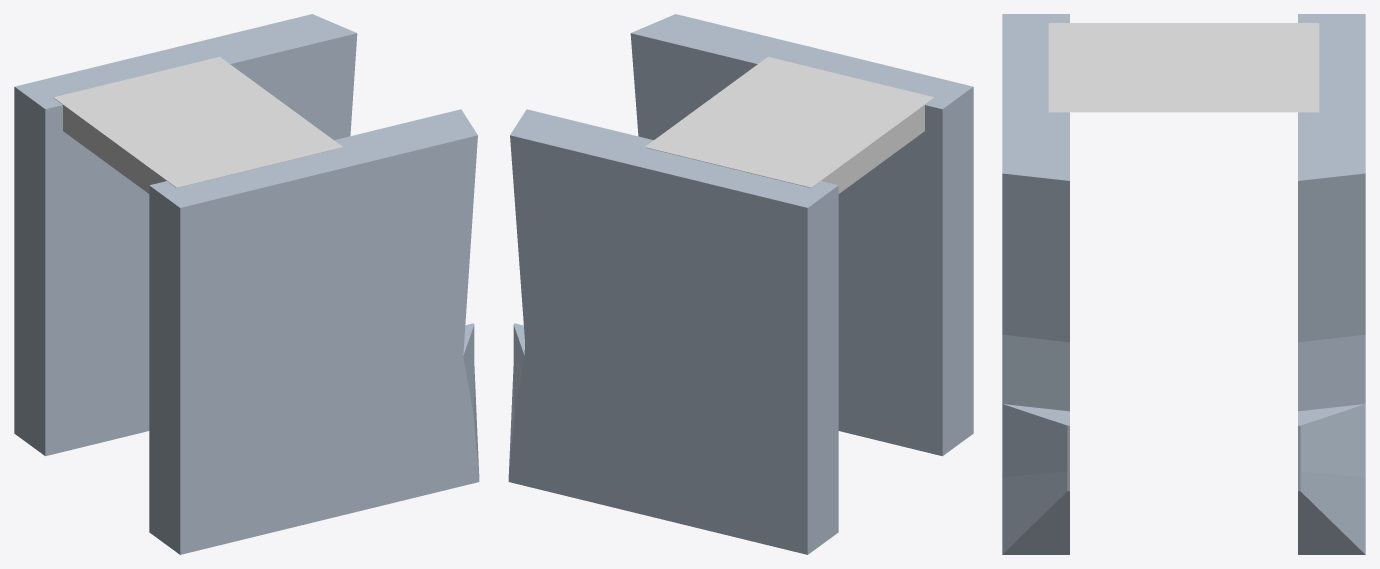
The model's file is entrance walls(1).fbx.
3 renders of one model, left to right at view 1: azimuth 30°, elevation 25°; view 2: azimuth 150°, elevation 25°; view 3: azimuth 270°, elevation 25°, orthographic. The views are drawn at different scales.
Visible parts, largest first — view 1: wall inside.001, Cube, wall inside; view 2: wall inside.001, Cube, wall inside; view 3: wall inside, Cube, wall inside.001.
Boxes of the visible parts, left/top/right/bottom form: wall inside.001: left=14, top=21, right=447, bottom=554; Cube: left=53, top=57, right=342, bottom=193; wall inside: left=282, top=14, right=479, bottom=489; wall inside.001: left=540, top=21, right=973, bottom=554; Cube: left=645, top=57, right=934, bottom=193; wall inside: left=508, top=14, right=705, bottom=489; wall inside: left=1002, top=157, right=1365, bottom=554; Cube: left=1048, top=23, right=1319, bottom=112; wall inside.001: left=1002, top=14, right=1365, bottom=156.
Bounding box in the file's own units: 3009 × 3083 × 2665.
